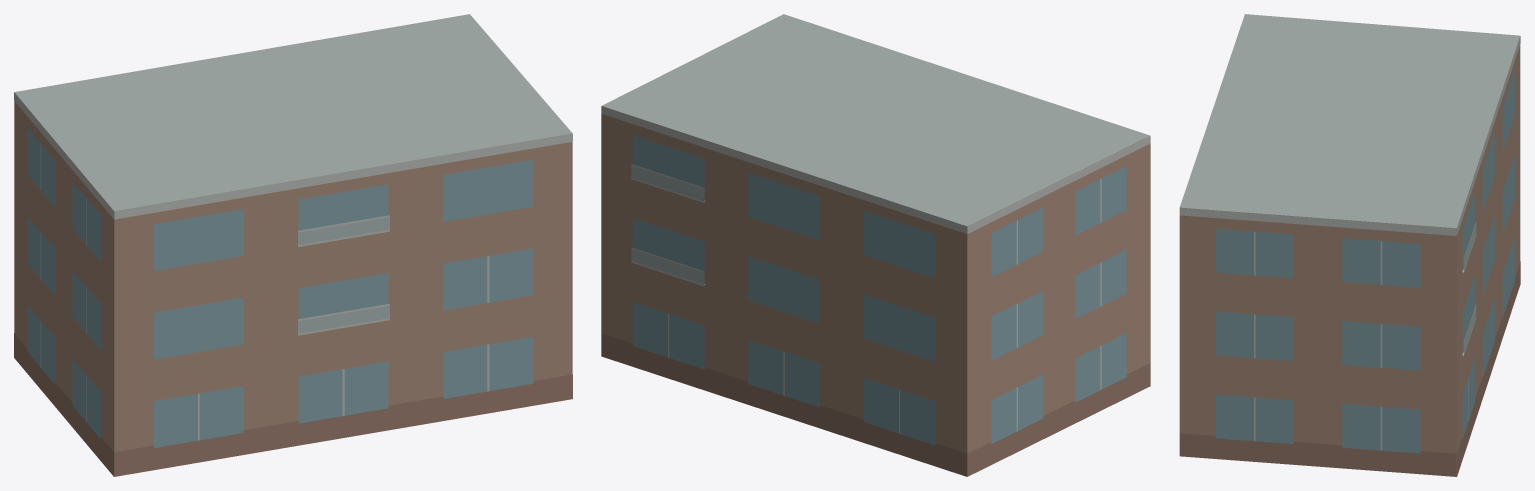
File: survey-upis-32599768.glb
3 renders of one model, left to right at view 1: azimuth 30°, elevation 25°; view 2: azimuth 150°, elevation 25°; view 3: azimuth 270°, elevation 25°, orthographic. The views are drawn at different scales.
Visible parts, largest first — view 1: survey-upis-32599768.tmp; view 2: survey-upis-32599768.tmp; view 3: survey-upis-32599768.tmp.
Part boxes in pixels (x1,y1,x2,y2): survey-upis-32599768.tmp: (14,14,572,476); survey-upis-32599768.tmp: (601,14,1150,476); survey-upis-32599768.tmp: (1179,14,1520,476).
Bounding box in the file's own units: 14.42 × 7.8 × 9.7.
